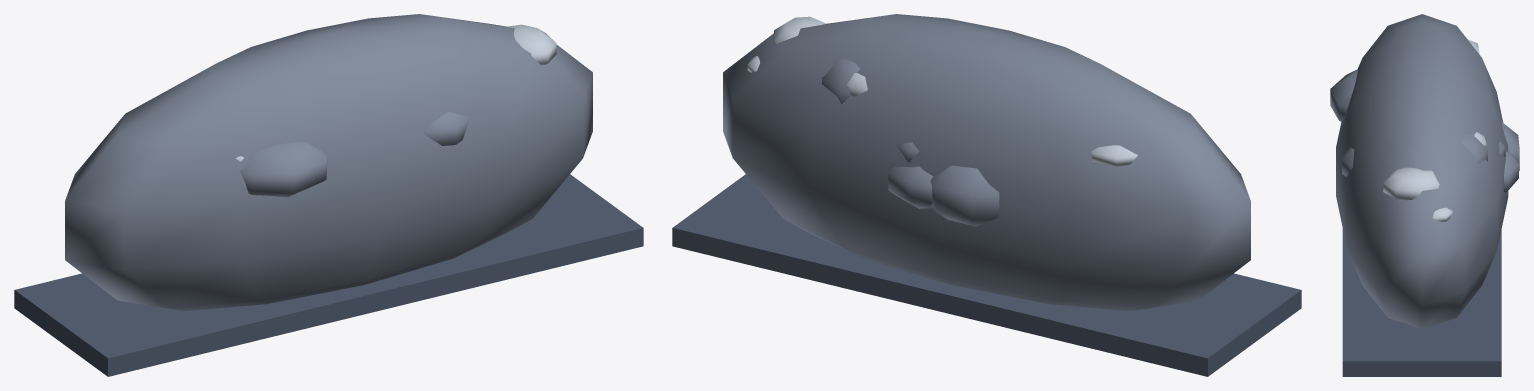
File: 圆形绿篱-lite.glb
The picture shows the model from 3 angles, left to right: view 1: azimuth 30°, elevation 25°; view 2: azimuth 150°, elevation 25°; view 3: azimuth 270°, elevation 25°; orthographic projection. The views are drawn at different scales.
Parts seen in each view (by area): view 1: garden-hedge-round-leaf, garden-hedge-round-soil, garden-hedge-round-light; view 2: garden-hedge-round-leaf, garden-hedge-round-soil, garden-hedge-round-light; view 3: garden-hedge-round-leaf, garden-hedge-round-soil, garden-hedge-round-light.
Part boxes in pixels (x1=…): garden-hedge-round-leaf: x1=65, y1=14, x2=592, y2=310; garden-hedge-round-soil: x1=14, y1=174, x2=643, y2=376; garden-hedge-round-light: x1=235, y1=24, x2=556, y2=161; garden-hedge-round-leaf: x1=723, y1=14, x2=1250, y2=310; garden-hedge-round-soil: x1=672, y1=174, x2=1301, y2=376; garden-hedge-round-light: x1=747, y1=16, x2=1137, y2=166; garden-hedge-round-leaf: x1=1330, y1=14, x2=1519, y2=329; garden-hedge-round-soil: x1=1342, y1=228, x2=1501, y2=376; garden-hedge-round-light: x1=1383, y1=39, x2=1486, y2=221.
Size of the model in its own units: 1.8 by 0.85 by 0.65.
